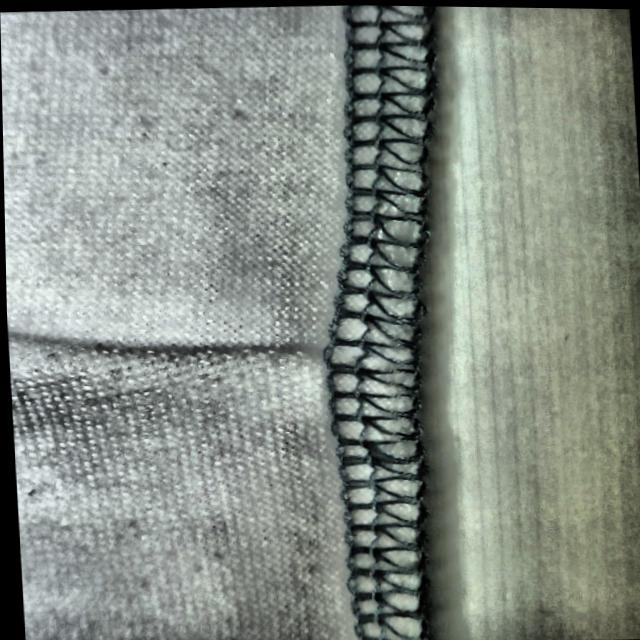seam: (83, 285, 425, 443)
